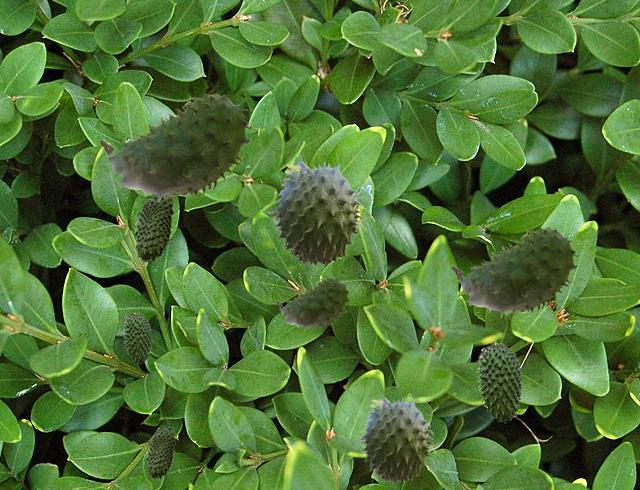guyabano: (99, 93, 250, 202), (451, 227, 577, 317), (267, 160, 371, 265), (356, 396, 440, 482), (275, 277, 349, 330), (477, 341, 522, 422), (134, 195, 173, 261), (123, 312, 151, 363), (146, 427, 174, 478)
